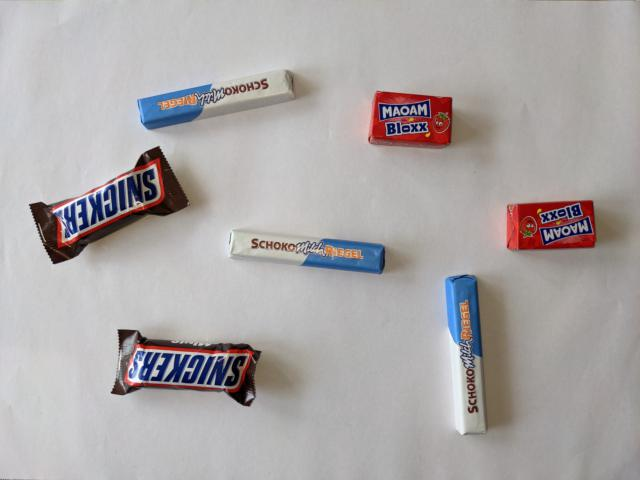MAOAM: (364, 87, 457, 151), (502, 196, 599, 254)
Schokoriegel: (135, 66, 300, 133), (221, 225, 389, 276), (442, 273, 491, 438)
Snickers: (26, 143, 192, 267), (108, 326, 264, 409)
